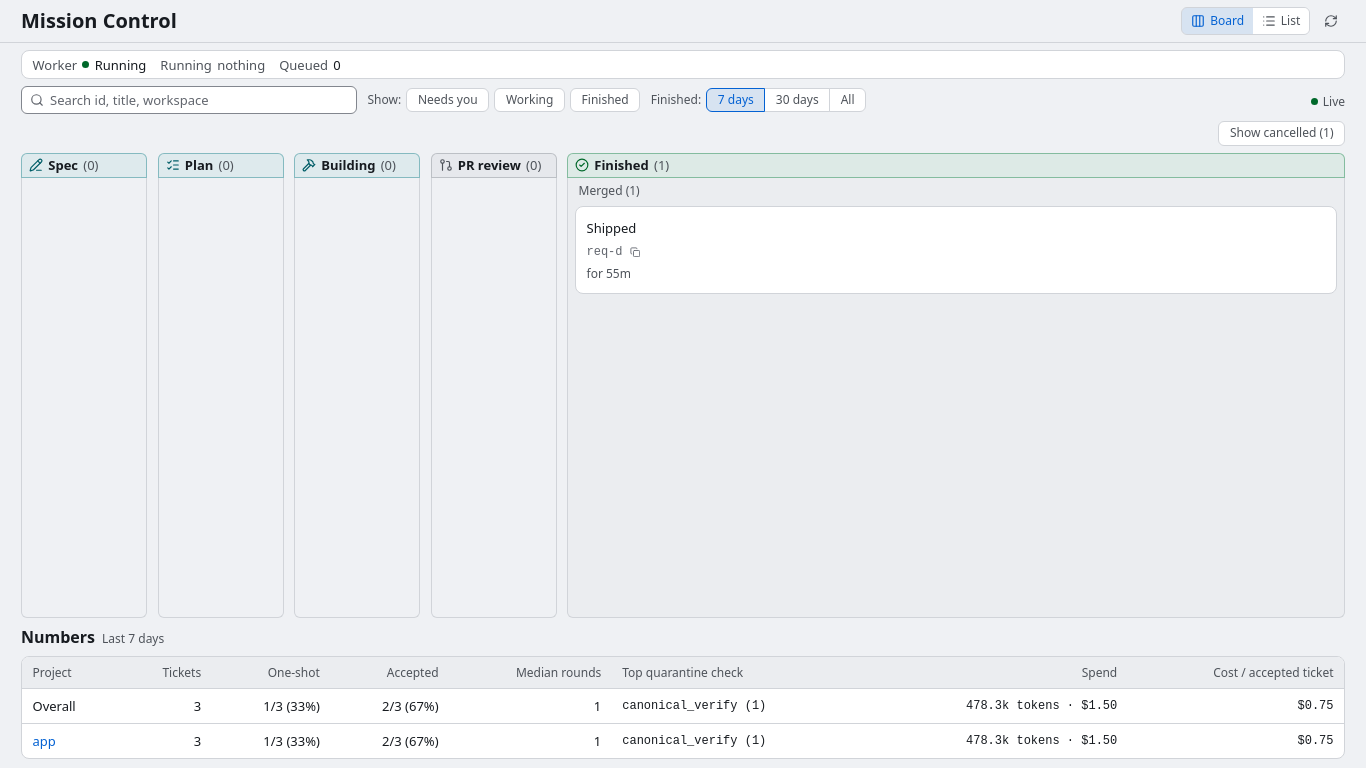
the board › cancelled requests stay out of Finished until Show cancelled is pressed
This screenshot has width=1366, height=768.
Expected: the list item with test id "card-req-d" is shown, left=575, top=206, right=1337, bottom=294
Expected: the heading "Finished (1)" is shown, left=575, top=155, right=669, bottom=175
Click the button "Show cancelled (1)" at (1282, 133), box left=1218, top=121, right=1345, bottom=146
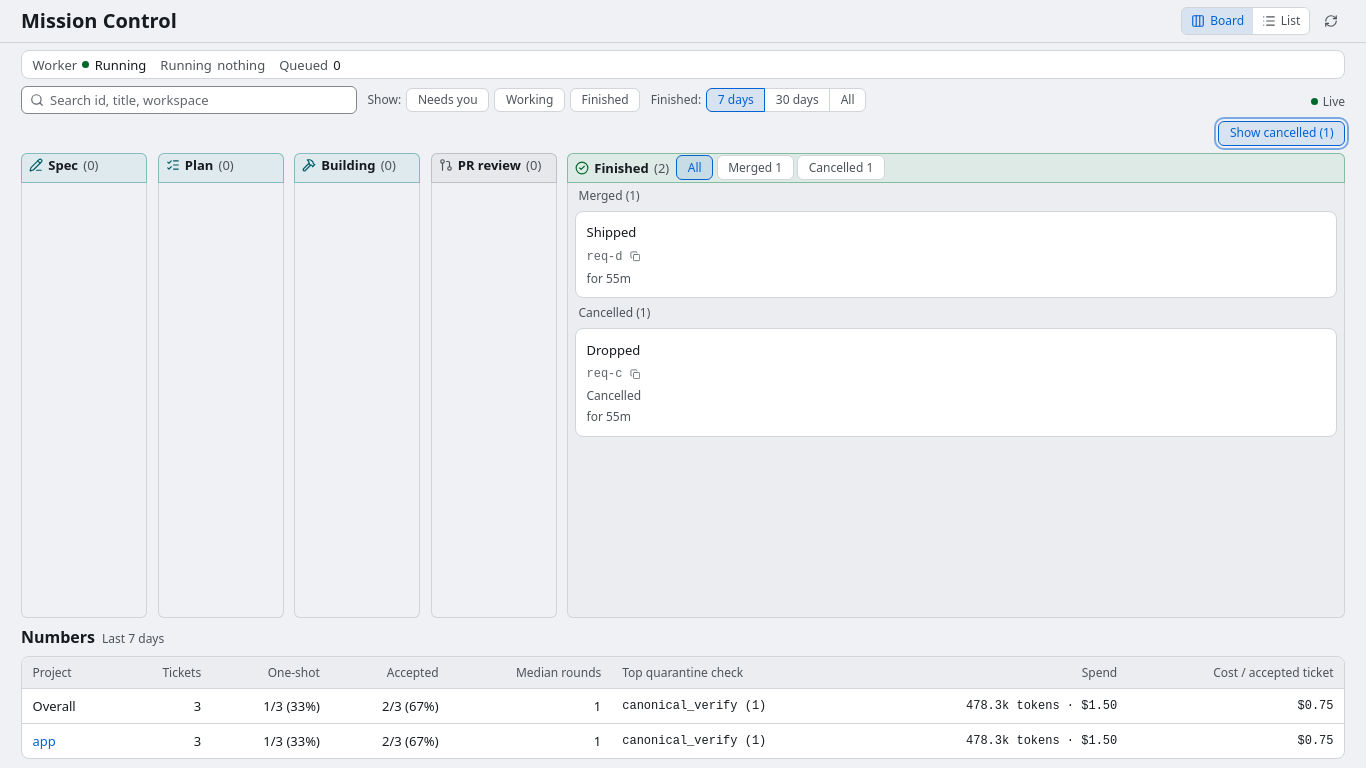
Now the list item with test id "card-req-c" shows "Cancelled", box left=586, top=387, right=641, bottom=404
Now the heading "Finished (2)" is shown, box left=575, top=158, right=669, bottom=178
